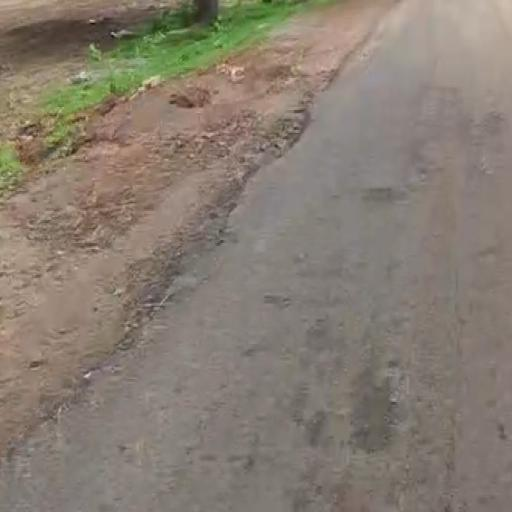edge_damage: (10, 24, 401, 464)
